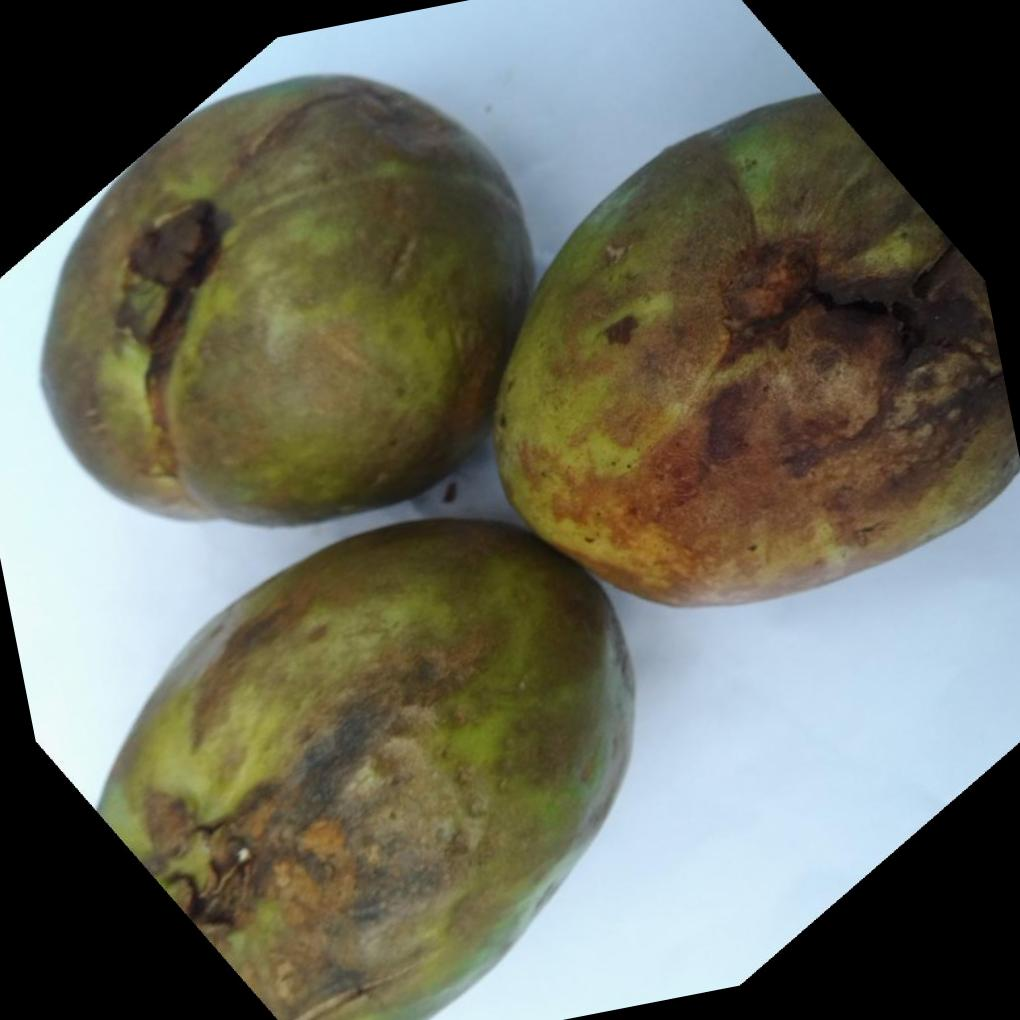FreshOrange: (38, 72, 1020, 1020)
